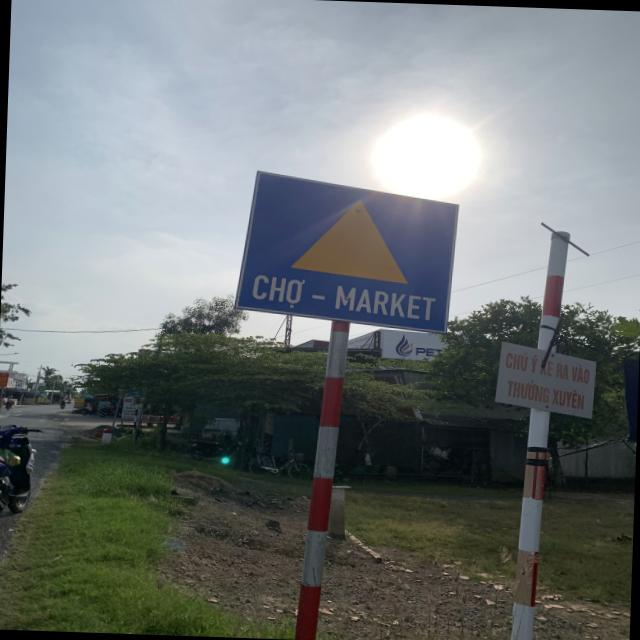Cho_Quay_Xe: (234, 168, 458, 332)
